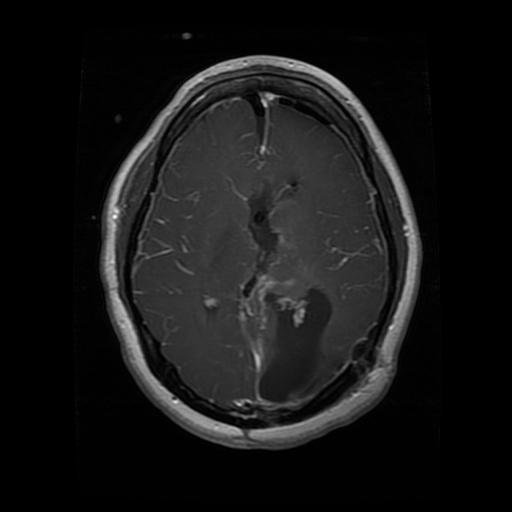glioma: (237, 172, 336, 404)
